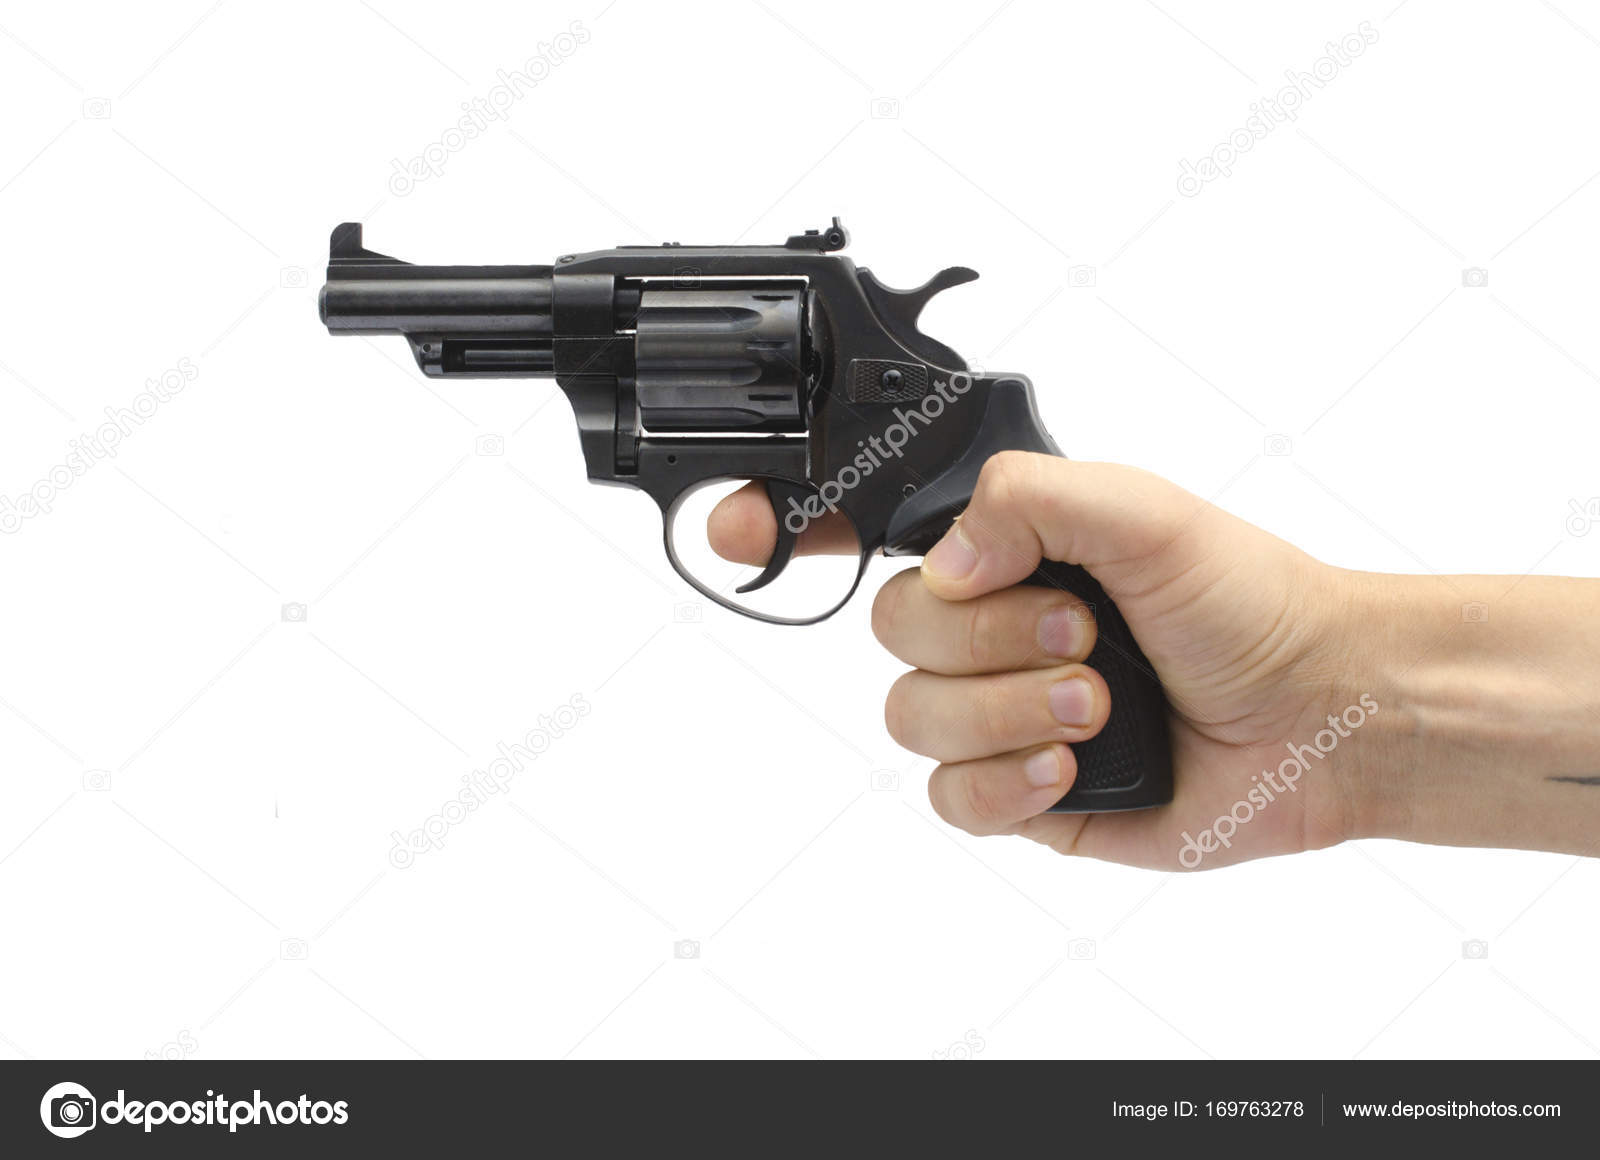Revolver: (253, 174, 1202, 836)
